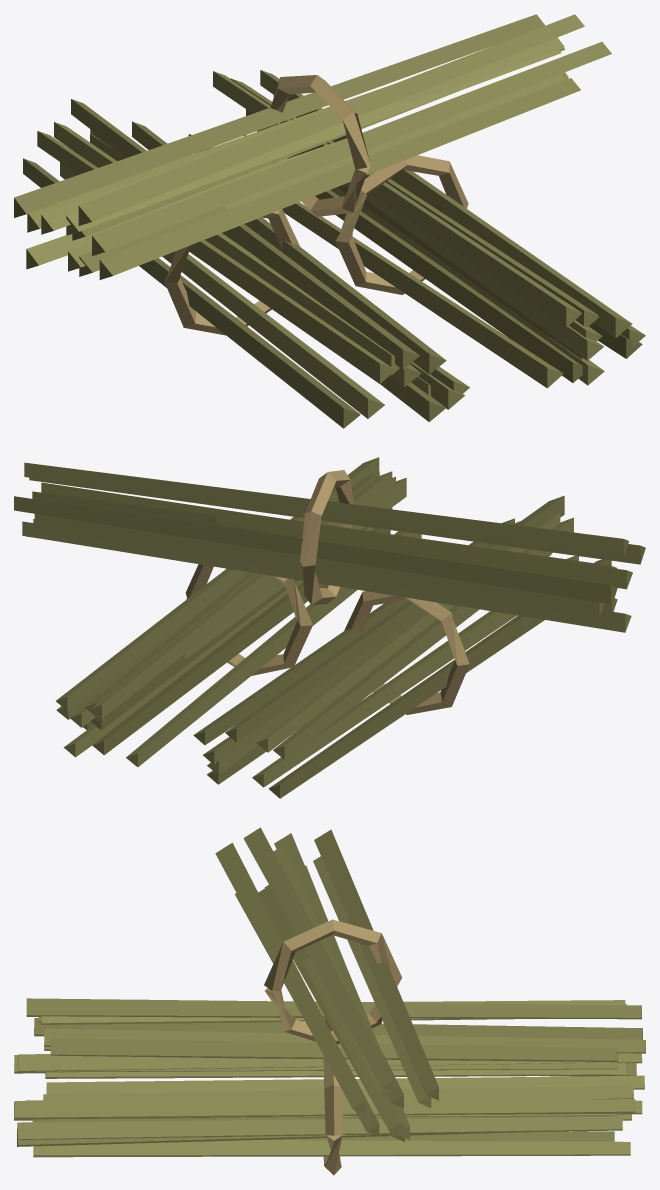
The model's file is storage_plant_fiber.glb.
3 renders of one model, top to bottom at view 1: azimuth 30°, elevation 25°; view 2: azimuth 150°, elevation 25°; view 3: azimuth 270°, elevation 25°, orthographic. The views are drawn at different scales.
Visible parts, largest first — view 1: storage_plant_fiber; view 2: storage_plant_fiber; view 3: storage_plant_fiber.
Boxes of the visible parts, x1,y1,x2,y2 form: storage_plant_fiber: [14, 14, 645, 428]; storage_plant_fiber: [14, 457, 645, 798]; storage_plant_fiber: [14, 827, 645, 1175].
Bounding box in the file's own units: 1.29 × 0.4867 × 1.29.
